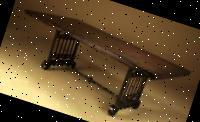Mesa: (2, 2, 197, 121)
